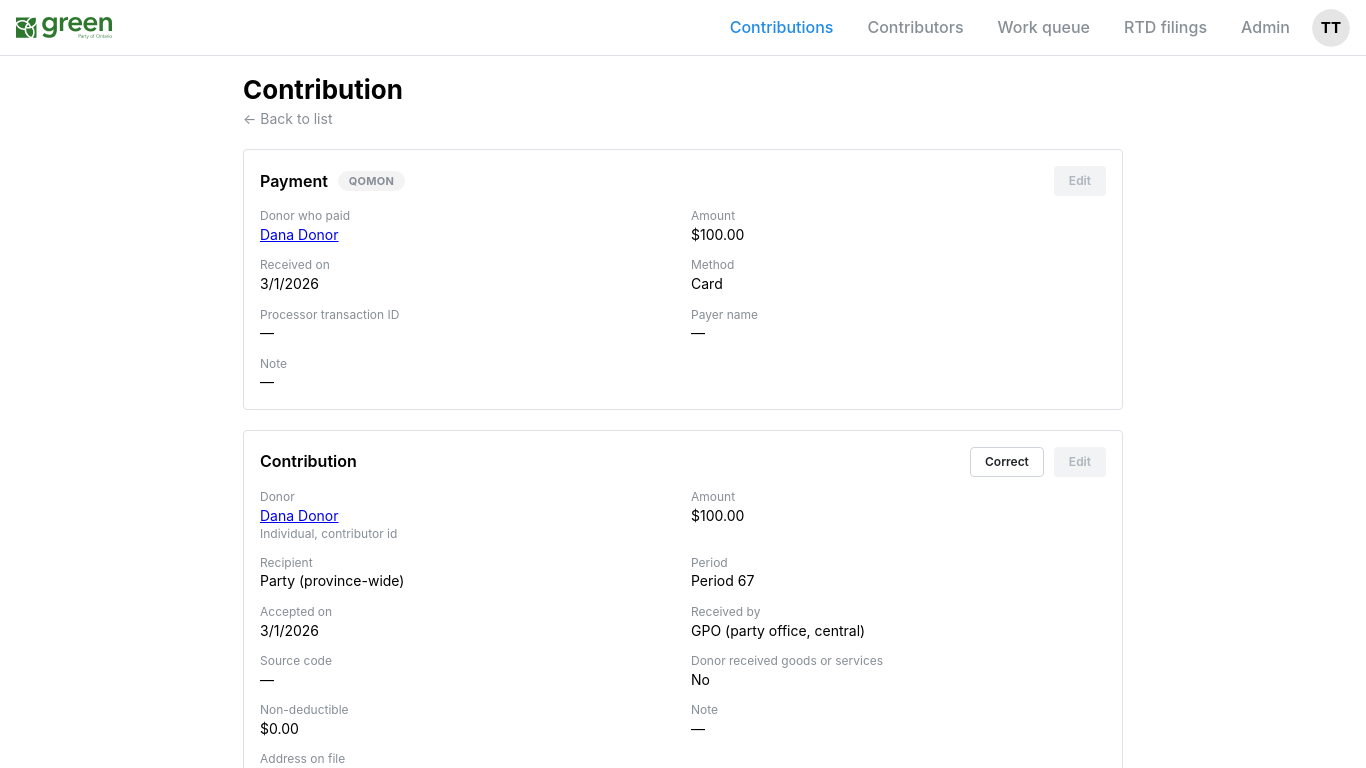
it: previews the cascade before it can be committed, then commits exactly the previewed request
Step 1. Click the button "Correct" → {"x": 1007, "y": 462}, box top-left (970, 447), bottom-right (1044, 477)
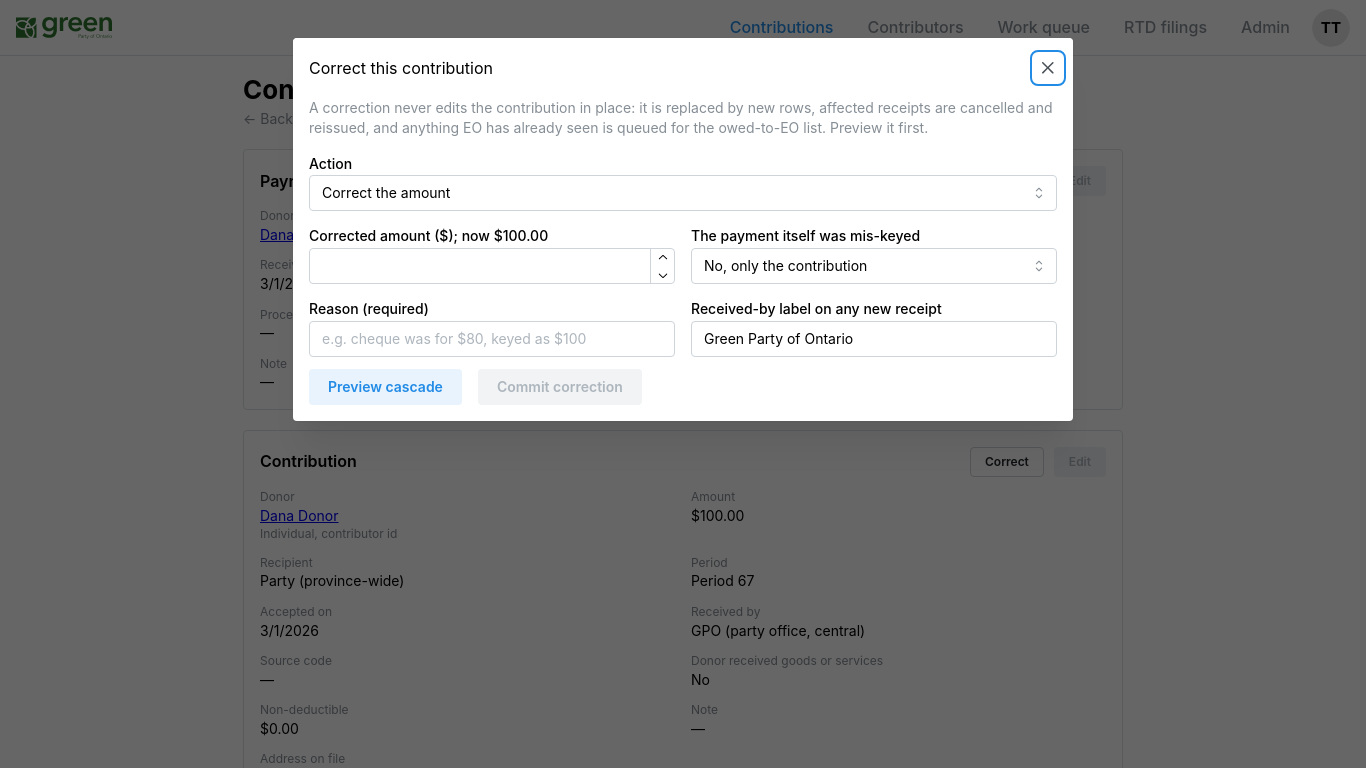
Expected: the heading "Correct this contribution" is shown, top-left (309, 60), bottom-right (493, 76)
Expected: the button "Commit correction" is disabled, top-left (478, 369), bottom-right (642, 405)
Step 2. Type "80" into the field labelled "Corrected amount ($); now $100.00" → {"x": 492, "y": 267}, box top-left (309, 249), bottom-right (675, 285)
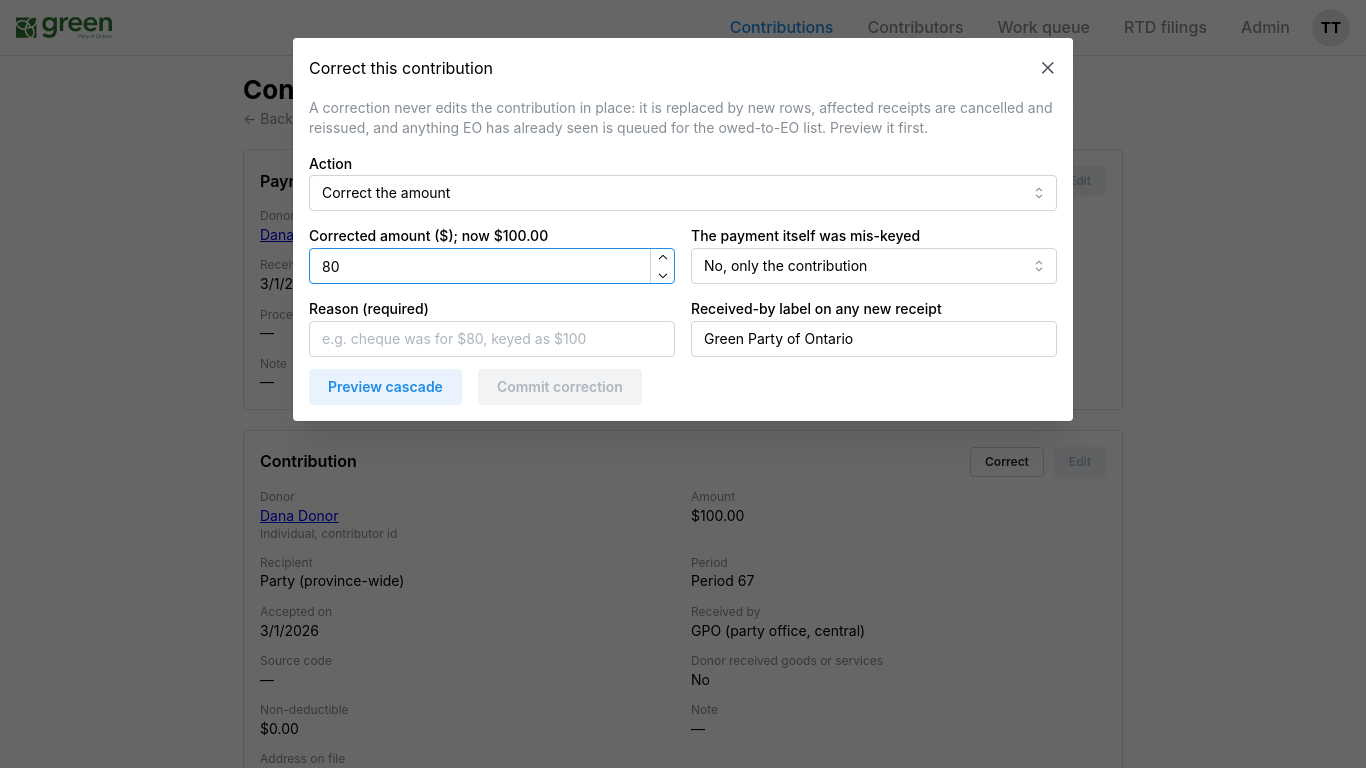
Step 3. Type "cheque was for $80" into the field labelled "Reason (required)" → {"x": 492, "y": 339}, box top-left (309, 321), bottom-right (675, 357)
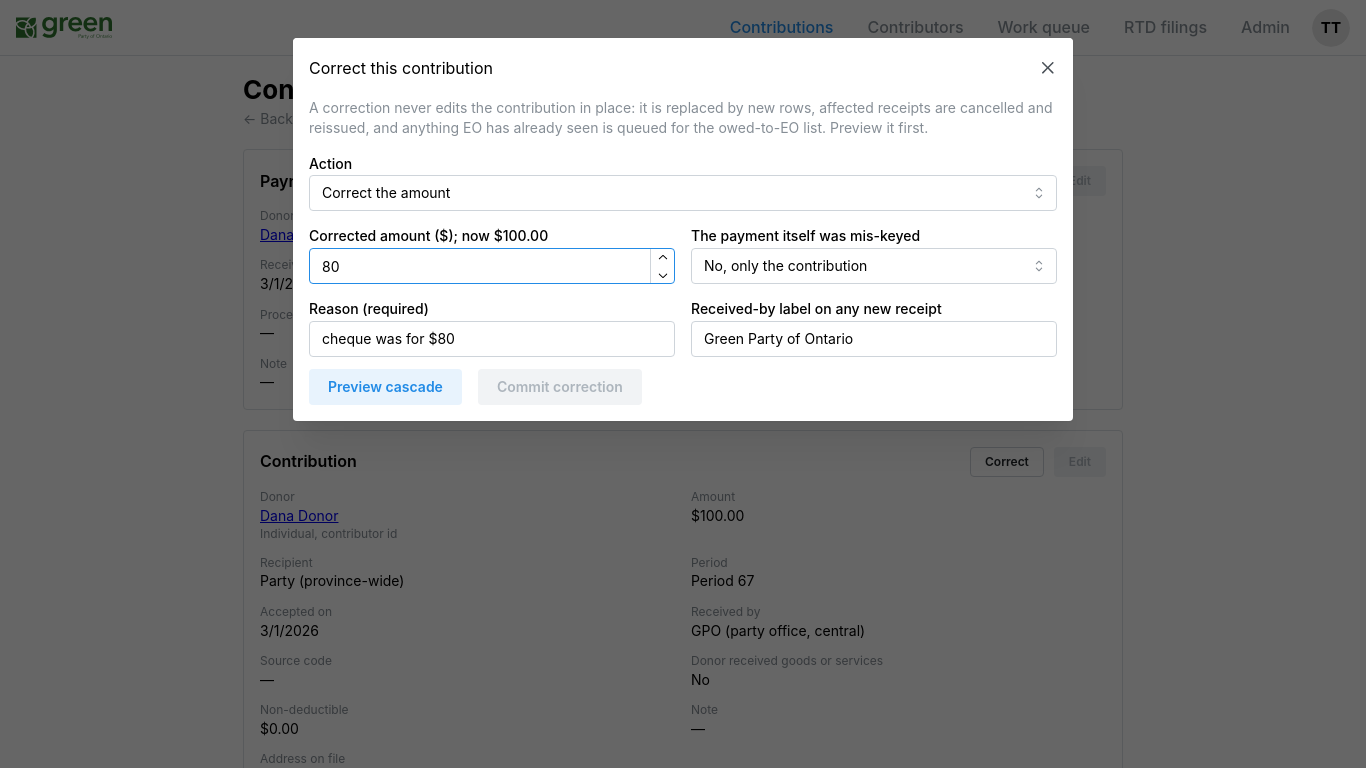
Step 4. Click the button "Preview cascade" → {"x": 385, "y": 387}, box top-left (309, 369), bottom-right (462, 405)
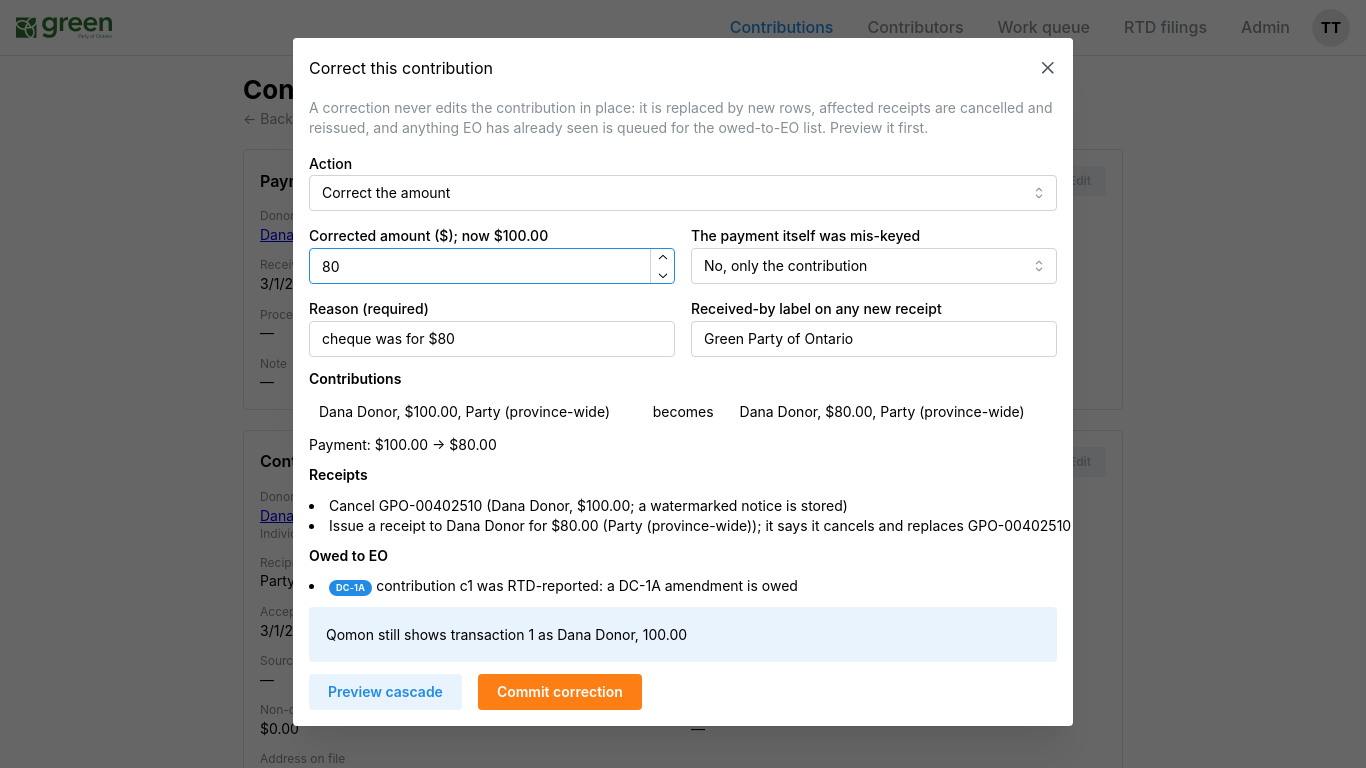
Expected: the text "Cancel GPO-00402510" is shown, top-left (329, 496), bottom-right (848, 516)
Expected: the text "it says it cancels and replaces GPO-00402510" is shown, top-left (757, 517), bottom-right (1071, 534)
Expected: the text "a DC-1A amendment is owed" is shown, top-left (376, 578), bottom-right (798, 595)
Step 5. Click the button "Commit correction" → {"x": 560, "y": 693}, box top-left (478, 675), bottom-right (642, 711)
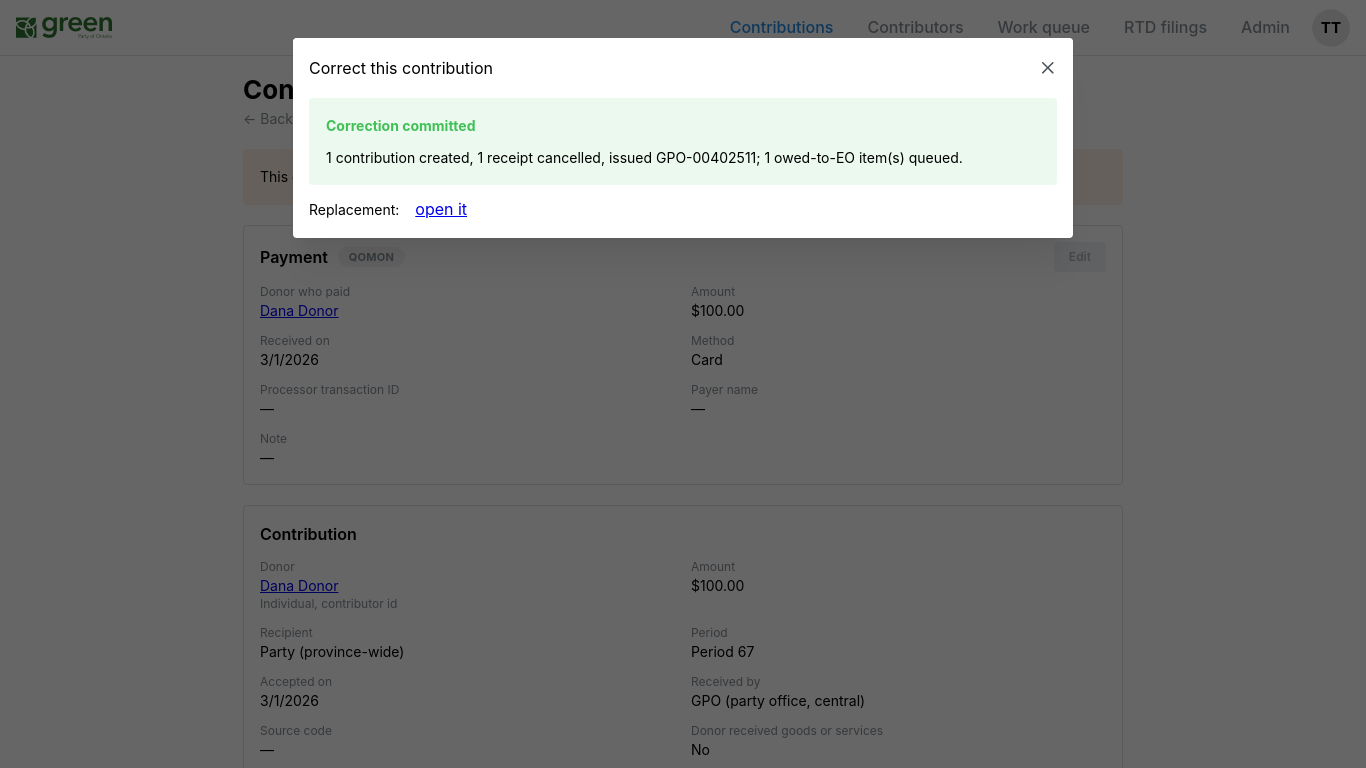
Expected: the text "issued GPO-00402511" is shown, top-left (609, 149), bottom-right (756, 166)
Expected: the text "Correction committed" is shown, top-left (326, 115), bottom-right (476, 137)
